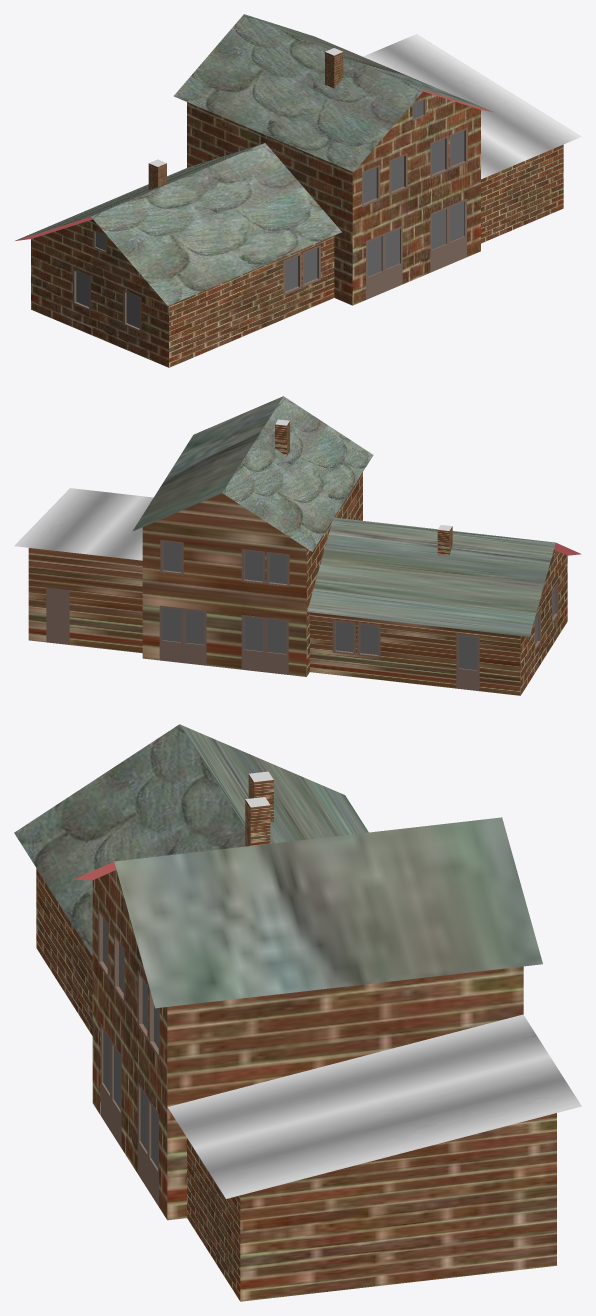
File: GMLID_BUI184698_512_898.gltf
3 views of the same model, one above another, from view 1: azimuth 30°, elevation 25°; view 2: azimuth 150°, elevation 25°; view 3: azimuth 270°, elevation 25° (orthographic). The views are drawn at different scales.
Visible parts, largest first — view 1: Z_UP; view 2: Z_UP; view 3: Z_UP.
Boxes of the visible parts, bbox=[...] form: Z_UP: bbox=[15, 14, 581, 367]; Z_UP: bbox=[14, 396, 581, 695]; Z_UP: bbox=[14, 724, 581, 1301].
Size of the model in its own units: 28.28 by 10.56 by 16.63.
Materials: 7 (3 with a texture image).
